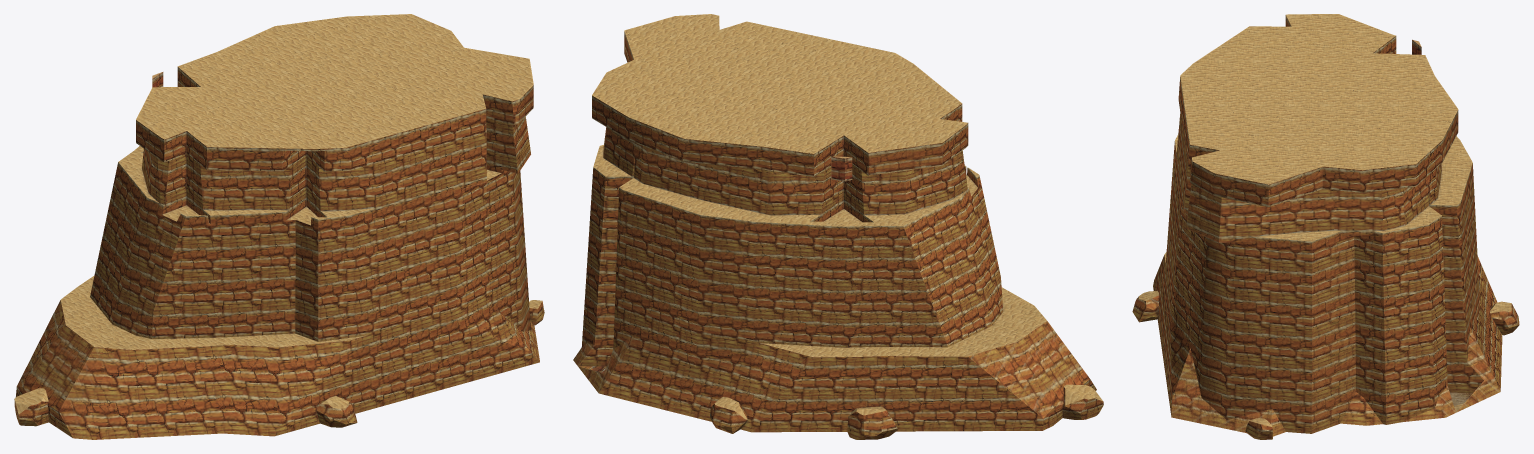
File: mesa_01.glb
3 views of the same model, side by side, from view 1: azimuth 30°, elevation 25°; view 2: azimuth 150°, elevation 25°; view 3: azimuth 270°, elevation 25° (orthographic). The views are drawn at different scales.
Parts seen in each view (by area): view 1: mesa_01; view 2: mesa_01; view 3: mesa_01.
Part boxes in pixels (bbox=[...]): mesa_01: bbox=[14, 14, 544, 439]; mesa_01: bbox=[573, 14, 1103, 439]; mesa_01: bbox=[1132, 14, 1519, 439].
Bounding box in the file's own units: 33.05 × 16 × 22.3.
Materials: 1 (1 with a texture image).
